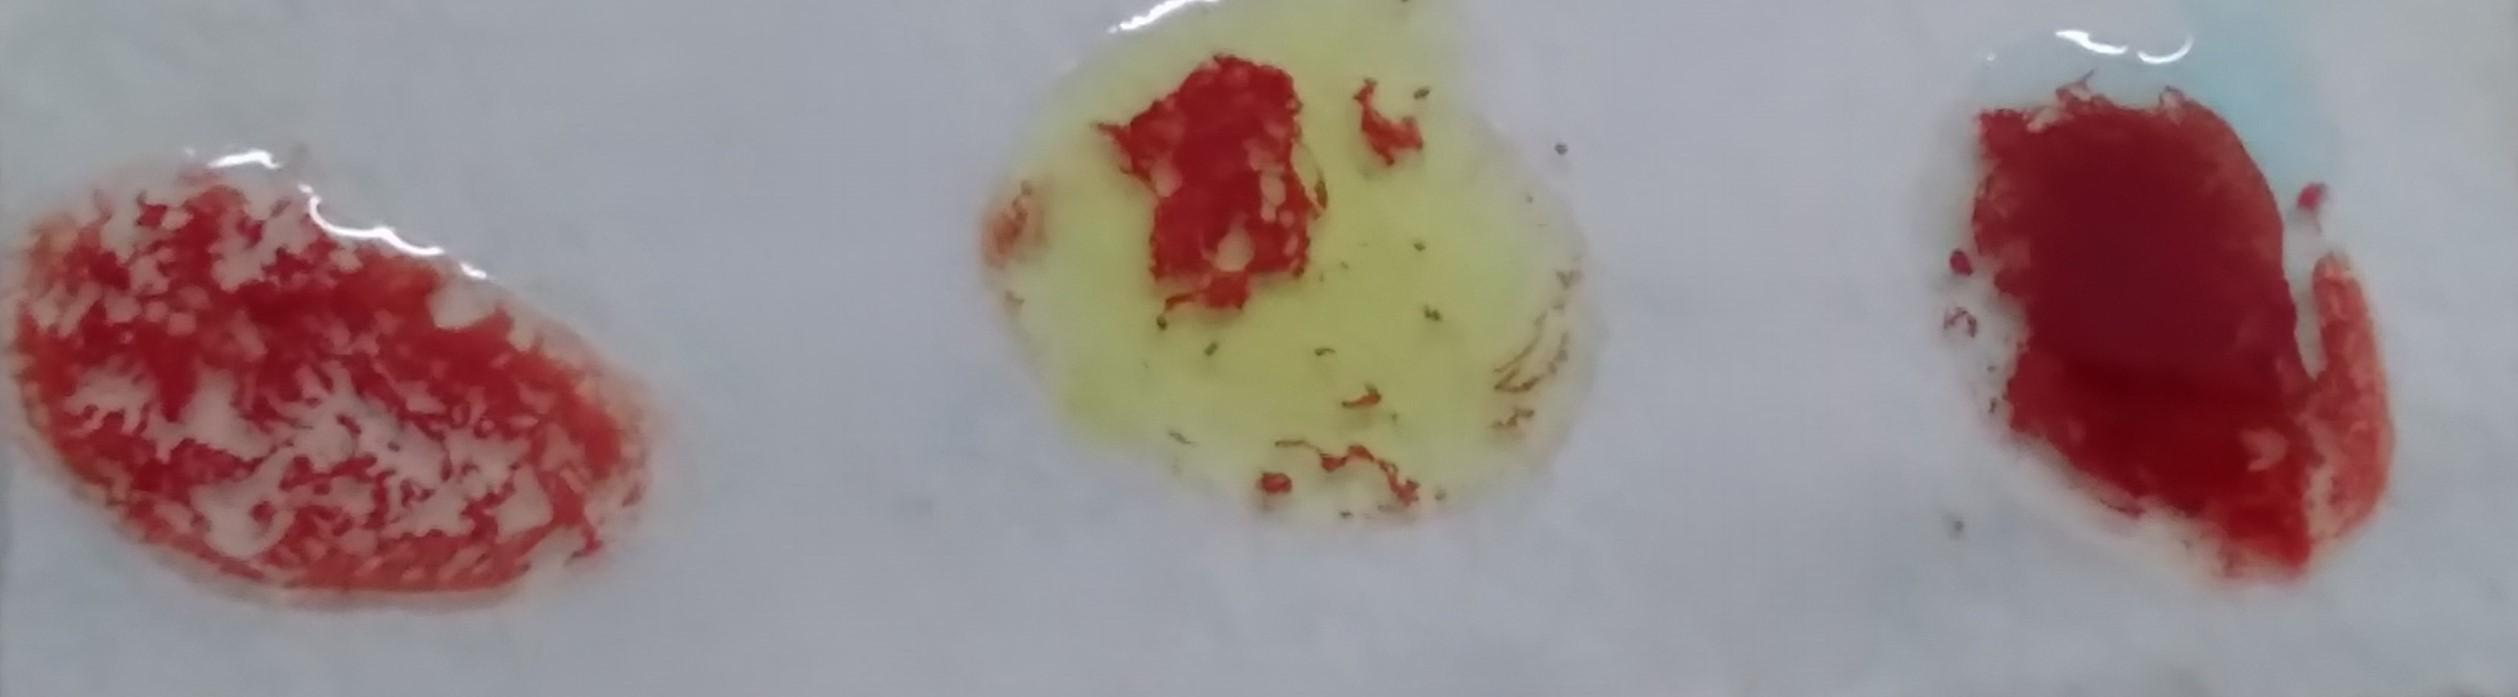A: (1956, 35, 2409, 570)
B: (997, 16, 1566, 511)
D: (16, 170, 599, 589)
